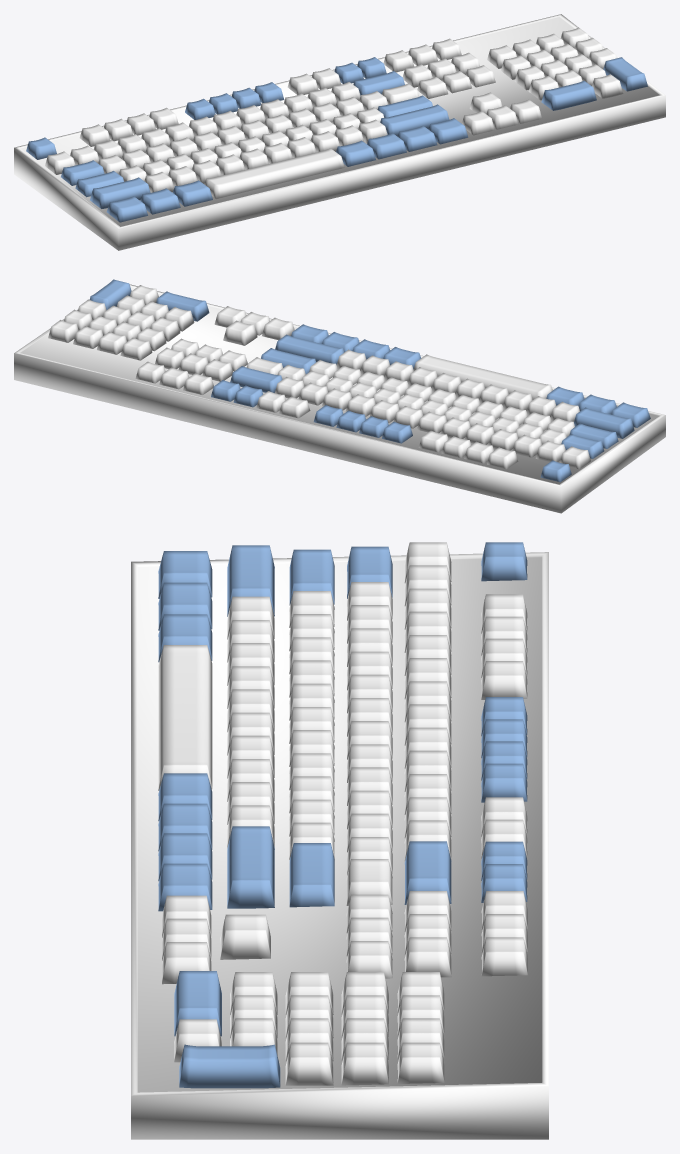
File: teclado-100.glb
3 renders of one model, top to bottom at view 1: azimuth 30°, elevation 25°; view 2: azimuth 150°, elevation 25°; view 3: azimuth 270°, elevation 25°, orthographic. The views are drawn at different scales.
Visible parts, largest first — view 1: Cube.005, Mechanical Keyboard.006, Cube.003, Cube.004, Cube.002, Cube.011, Cube.001, Cube.010, Cube.009, Cube.006, Cube.007; view 2: Cube.005, Mechanical Keyboard.006, Cube.001, Cube.004, Cube.003, Cube.002, Cube.011, Cube.010, Cube.006, Cube.009, Cube.007, Cube.008; view 3: Cube.005, Mechanical Keyboard.006, Cube.010, Cube.004, Cube.003, Cube.002, Cube.001, Cube.011, Cube.008, Cube.007, Cube.006, Cube.009.
Part boxes in pixels (x1=…): Cube.005: x1=26, y1=38, x2=541, y2=222; Mechanical Keyboard.006: x1=14, y1=14, x2=665, y2=250; Cube.003: x1=514, y1=54, x2=592, y2=90; Cube.004: x1=528, y1=64, x2=606, y2=100; Cube.002: x1=501, y1=44, x2=578, y2=79; Cube.011: x1=541, y1=80, x2=596, y2=110; Cube.001: x1=487, y1=33, x2=564, y2=68; Cube.010: x1=603, y1=57, x2=647, y2=91; Cube.009: x1=592, y1=74, x2=623, y2=98; Cube.006: x1=560, y1=27, x2=589, y2=48; Cube.007: x1=574, y1=37, x2=603, y2=58; Cube.005: x1=135, y1=306, x2=650, y2=482; Mechanical Keyboard.006: x1=14, y1=284, x2=665, y2=513; Cube.001: x1=73, y1=326, x2=152, y2=360; Cube.004: x1=116, y1=295, x2=194, y2=331; Cube.003: x1=103, y1=305, x2=180, y2=341; Cube.002: x1=89, y1=316, x2=166, y2=351; Cube.011: x1=156, y1=291, x2=209, y2=321; Cube.010: x1=89, y1=279, x2=131, y2=309; Cube.006: x1=48, y1=320, x2=78, y2=342; Cube.009: x1=130, y1=285, x2=158, y2=304; Cube.007: x1=64, y1=309, x2=92, y2=330; Cube.008: x1=78, y1=299, x2=106, y2=319; Cube.005: x1=158, y1=542, x2=527, y2=984; Mechanical Keyboard.006: x1=131, y1=552, x2=548, y2=1139; Cube.010: x1=179, y1=1044, x2=280, y2=1088; Cube.004: x1=230, y1=972, x2=277, y2=1055; Cube.003: x1=285, y1=972, x2=333, y2=1061; Cube.002: x1=341, y1=972, x2=388, y2=1061; Cube.001: x1=397, y1=972, x2=444, y2=1059; Cube.011: x1=174, y1=971, x2=221, y2=1036; Cube.008: x1=285, y1=1042, x2=333, y2=1085; Cube.007: x1=341, y1=1042, x2=388, y2=1085; Cube.006: x1=397, y1=1042, x2=444, y2=1083; Cube.009: x1=174, y1=1019, x2=221, y2=1062.
Bounding box in the file's own units: 0.4534 × 0.0283 × 0.15.
